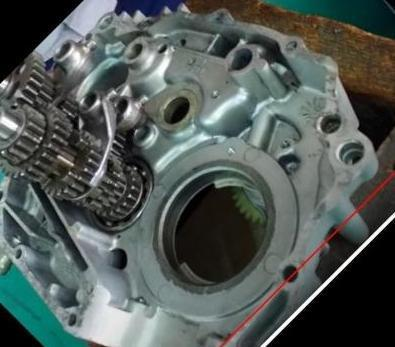hole: (281, 36, 300, 55), (207, 85, 222, 100), (277, 137, 292, 151)
